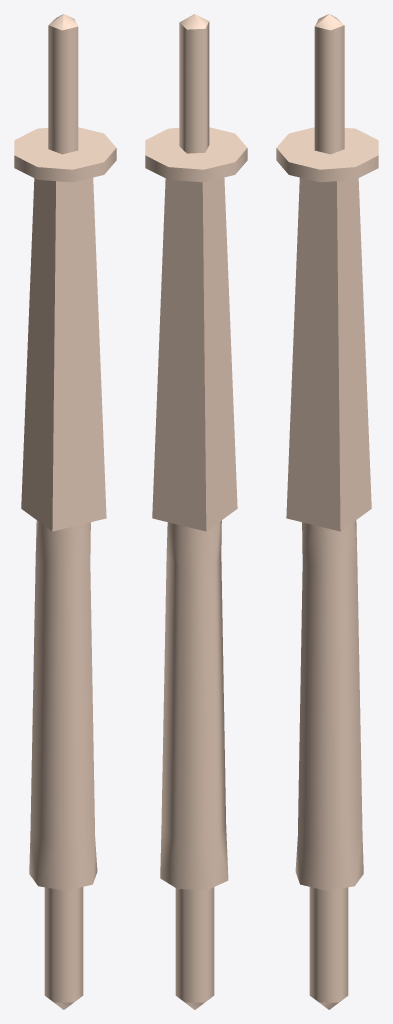
File: Pied Timbre_Heures.obj
The picture shows the model from 3 angles, left to right: view 1: azimuth 30°, elevation 25°; view 2: azimuth 150°, elevation 25°; view 3: azimuth 330°, elevation 25°; orthographic projection.
Visible parts, largest first — view 1: Face_16, Face_9, Face_10, Face_14, Face_4, Face_5, Face_6, Face_3; view 2: Face_16, Face_11, Face_10, Face_14, Face_4, Face_5, Face_6, Face_3; view 3: Face_16, Face_9, Face_8, Face_14, Face_4, Face_5, Face_6, Face_3.
Boxes of the visible parts, x1,y1,x2,y2 form: Face_16: (29,520,97,890); Face_9: (52,177,106,531); Face_10: (21,178,55,530); Face_14: (44,887,83,1002); Face_4: (48,25,78,154); Face_5: (14,127,116,169); Face_6: (14,148,116,182); Face_3: (49,14,77,30); Face_16: (160,520,228,889); Face_11: (152,178,206,531); Face_10: (202,177,237,531); Face_14: (175,887,214,1002); Face_4: (179,21,209,153); Face_5: (145,127,247,169); Face_6: (145,148,247,182); Face_3: (180,14,208,29); Face_16: (295,520,363,890); Face_9: (286,177,340,531); Face_8: (337,178,371,530); Face_14: (309,887,348,1002); Face_4: (314,25,344,154); Face_5: (276,127,378,169); Face_6: (276,148,378,182); Face_3: (315,14,343,30).
Size of the model in its own units: 0.0148 by 0.1565 by 0.0145.
